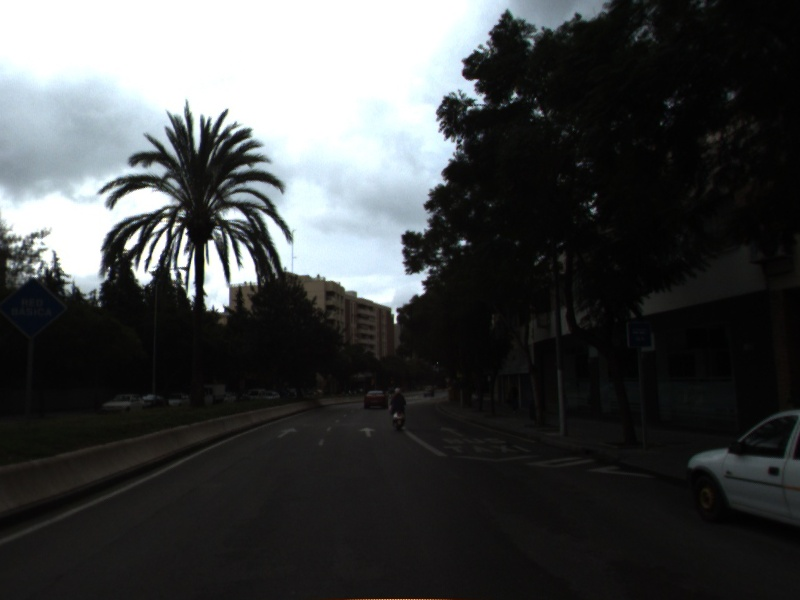STRAIGHT: (438, 424, 466, 439), (275, 425, 299, 440), (357, 425, 377, 439)
